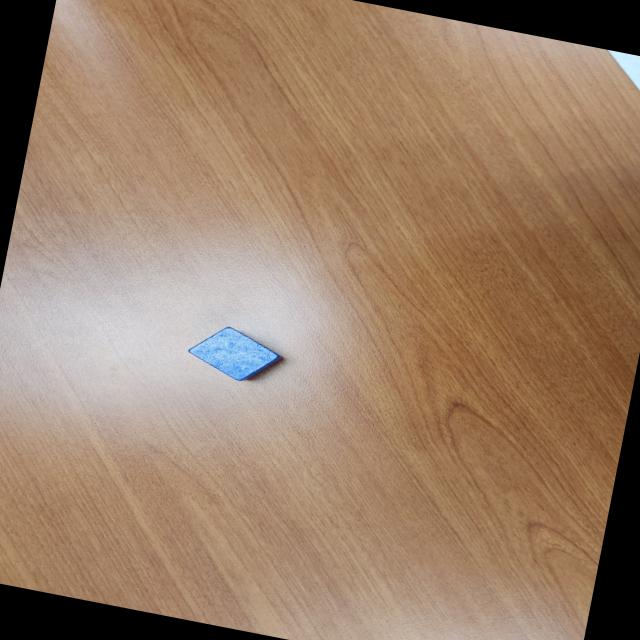blue: (182, 319, 288, 389)
